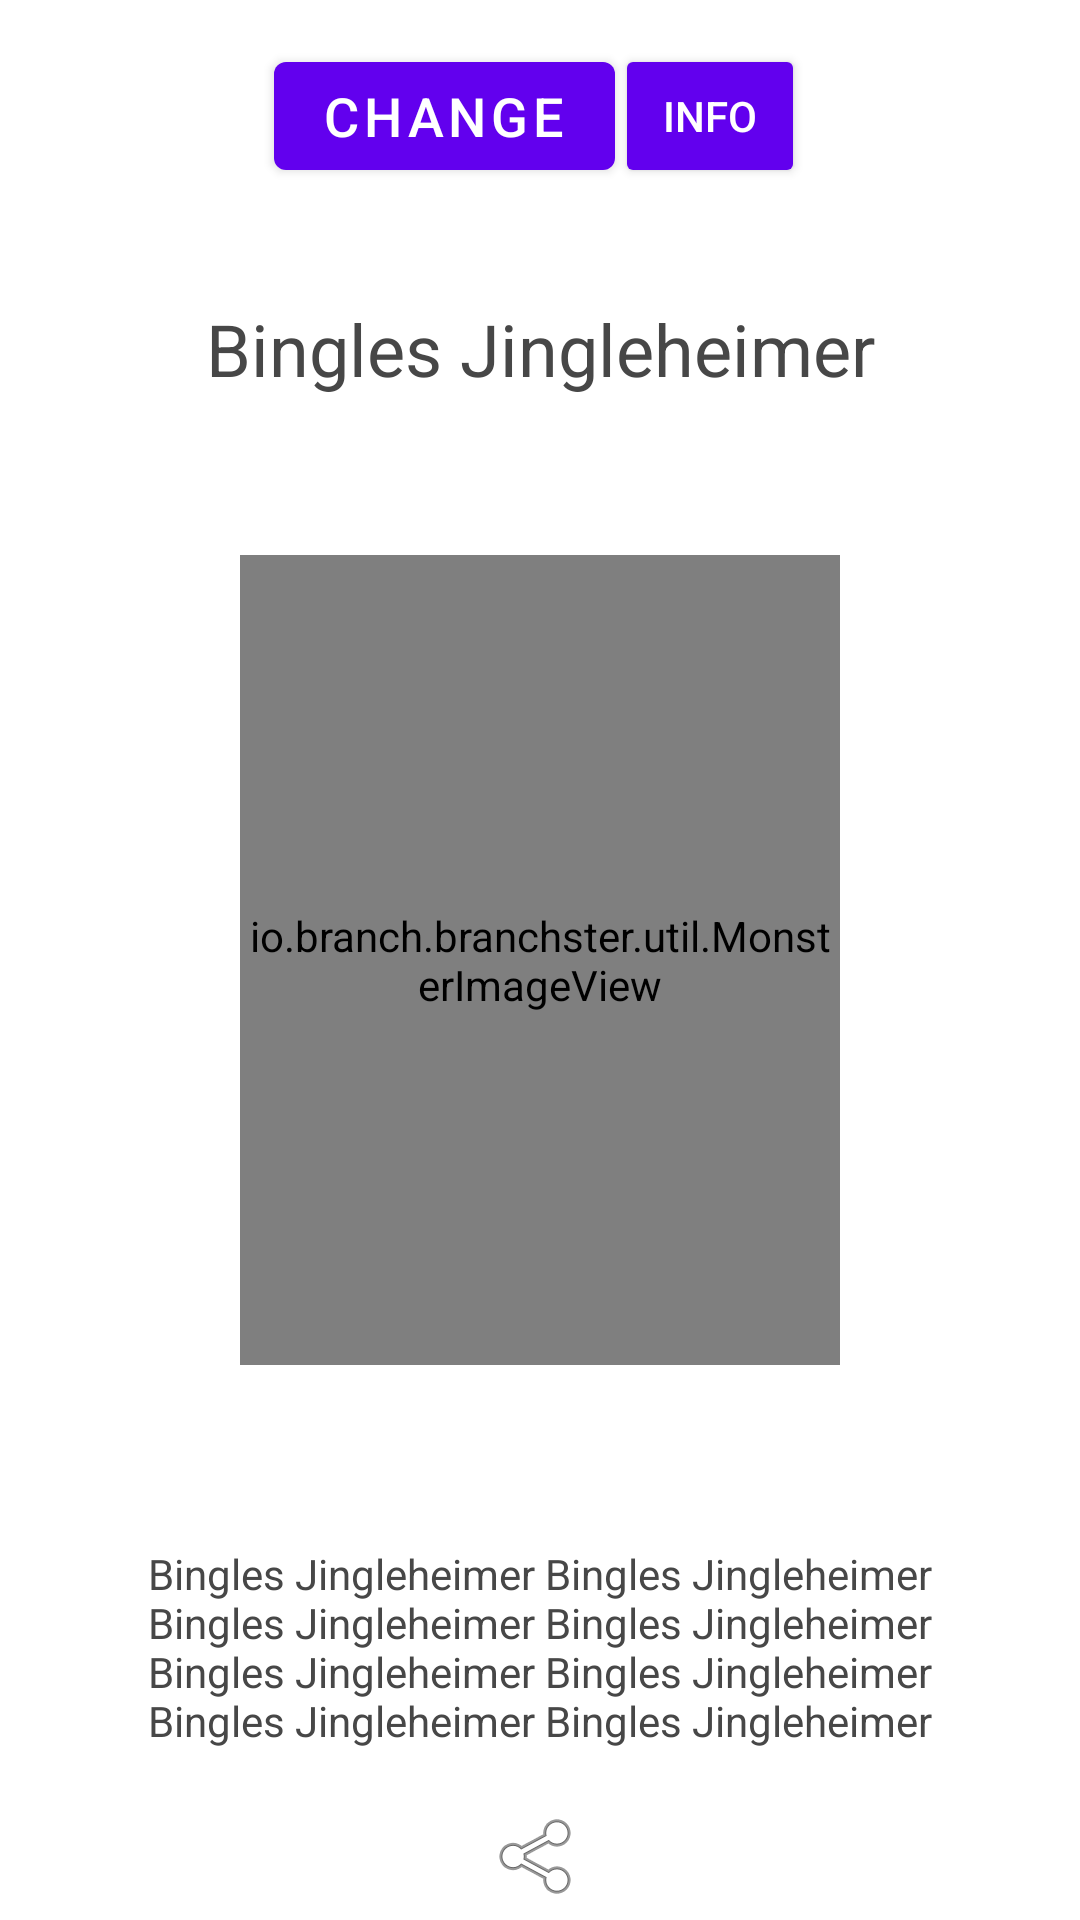

Named icons in this screenshot (1080*1920) and their centers, (x,y):
share: (535,1856)
